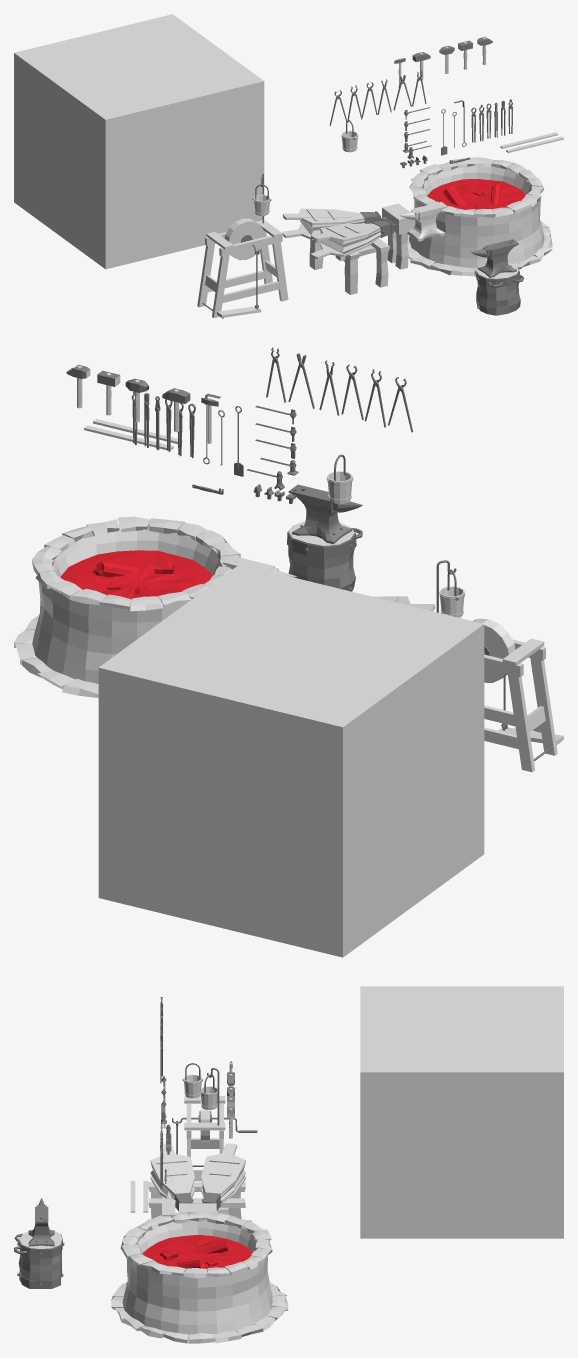
3 views of the same model, one above another, from view 1: azimuth 30°, elevation 25°; view 2: azimuth 150°, elevation 25°; view 3: azimuth 270°, elevation 25° (orthographic). The views are drawn at different scales.
Visible parts, largest first — view 1: Cube.004, Forge, Bellow, Grindstone, AnvilStand, Cube.002, Anvil; view 2: Cube.004, Forge, Grindstone, AnvilStand, Anvil, Bucket; view 3: Cube.004, Forge, Bellow, Grindstone, AnvilStand, Anvil, Bucket.
Boxes of the visible parts, x1,y1,x2,y2 form: Cube.004: (14, 14, 264, 269); Forge: (407, 157, 552, 276); Bellow: (282, 203, 415, 294); Grindstone: (197, 173, 288, 318); AnvilStand: (475, 262, 524, 315); Cube.002: (399, 201, 447, 241); Anvil: (471, 239, 518, 277); Cube.004: (98, 564, 484, 957); Forge: (14, 516, 240, 697); Grindstone: (436, 560, 563, 772); AnvilStand: (287, 521, 362, 591); Anvil: (288, 484, 362, 544); Bucket: (326, 454, 353, 503); Cube.004: (360, 986, 563, 1238); Forge: (111, 1212, 288, 1343); Bellow: (148, 1143, 245, 1218); Grindstone: (172, 1068, 257, 1181); AnvilStand: (14, 1231, 64, 1288); Anvil: (28, 1198, 54, 1246); Bucket: (182, 1063, 202, 1098).
Bounding box in the file's own units: 461 × 253 × 540.
